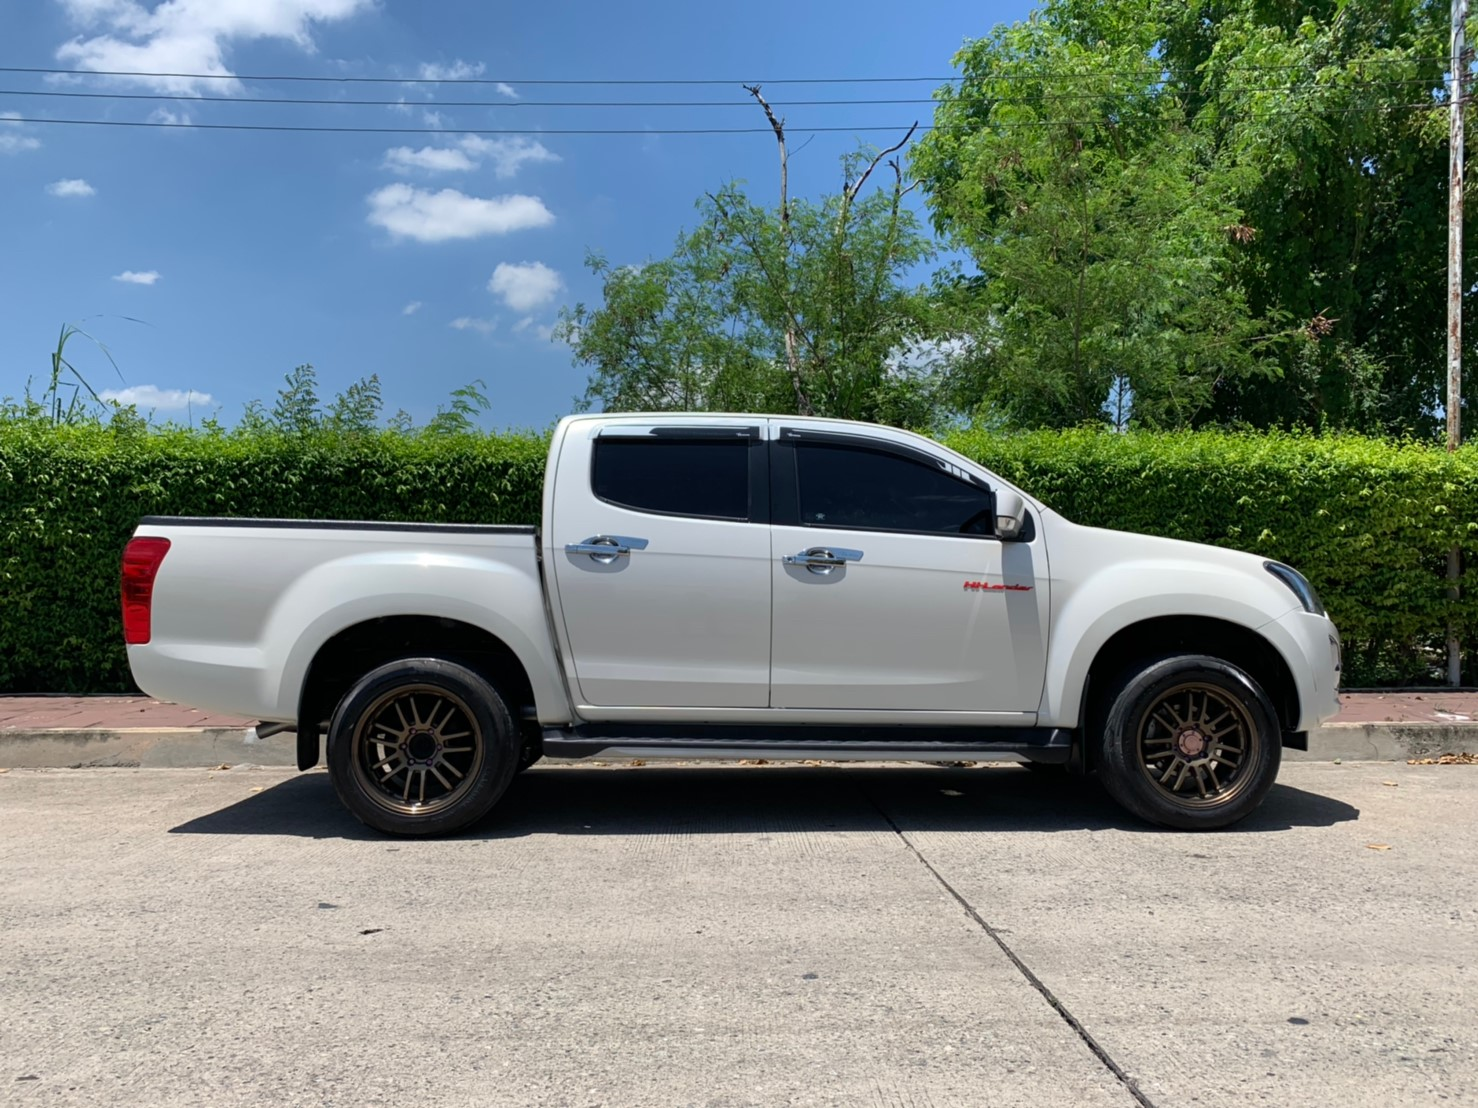pickup: (119, 407, 1348, 838)
